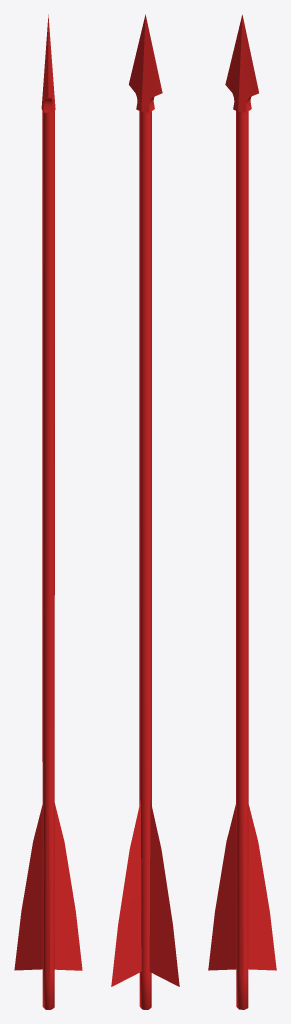
Rendered from model_arrow_modern_4.FBX.
3 renders of one model, left to right at view 1: azimuth 90°, elevation 25°; view 2: azimuth 150°, elevation 25°; view 3: azimuth 330°, elevation 25°, orthographic.
Parts seen in each view (by area): view 1: model_arrow_modern_4; view 2: model_arrow_modern_4; view 3: model_arrow_modern_4.
Boxes of the visible parts, left/top/right/bottom form: model_arrow_modern_4: left=14, top=14, right=82, bottom=1009; model_arrow_modern_4: left=111, top=14, right=179, bottom=1009; model_arrow_modern_4: left=208, top=14, right=276, bottom=1009.
Bounding box in the file's own units: 5.25 × 96.98 × 6.03.
